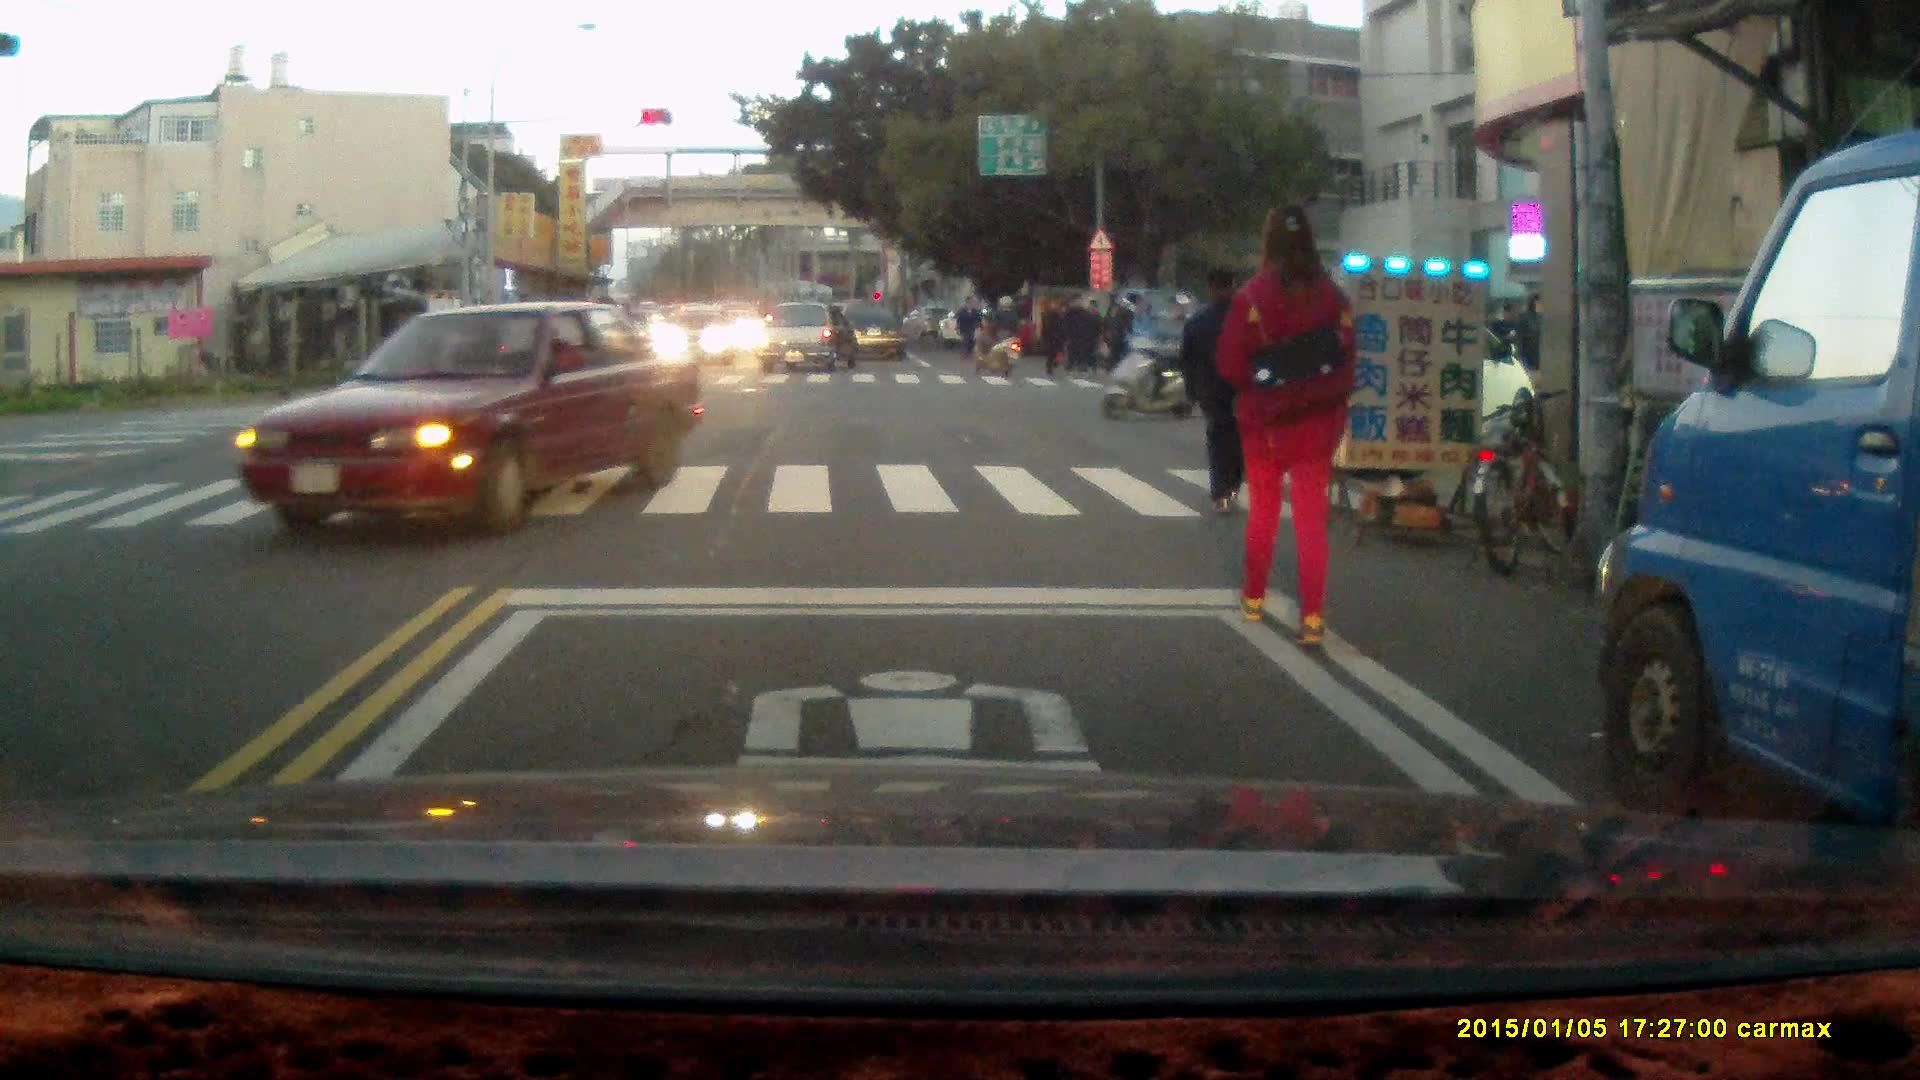pedestrian: (1218, 196, 1347, 648), (1173, 258, 1271, 515), (1508, 292, 1550, 414), (1484, 295, 1518, 402), (1058, 290, 1090, 377), (1035, 293, 1065, 380), (1100, 298, 1127, 373), (956, 291, 979, 363)
rider: (1100, 292, 1201, 421), (973, 293, 1021, 378)
vehicle: (1598, 132, 1920, 869), (236, 303, 704, 531), (1233, 296, 1533, 459), (760, 300, 856, 377), (831, 302, 912, 365)
